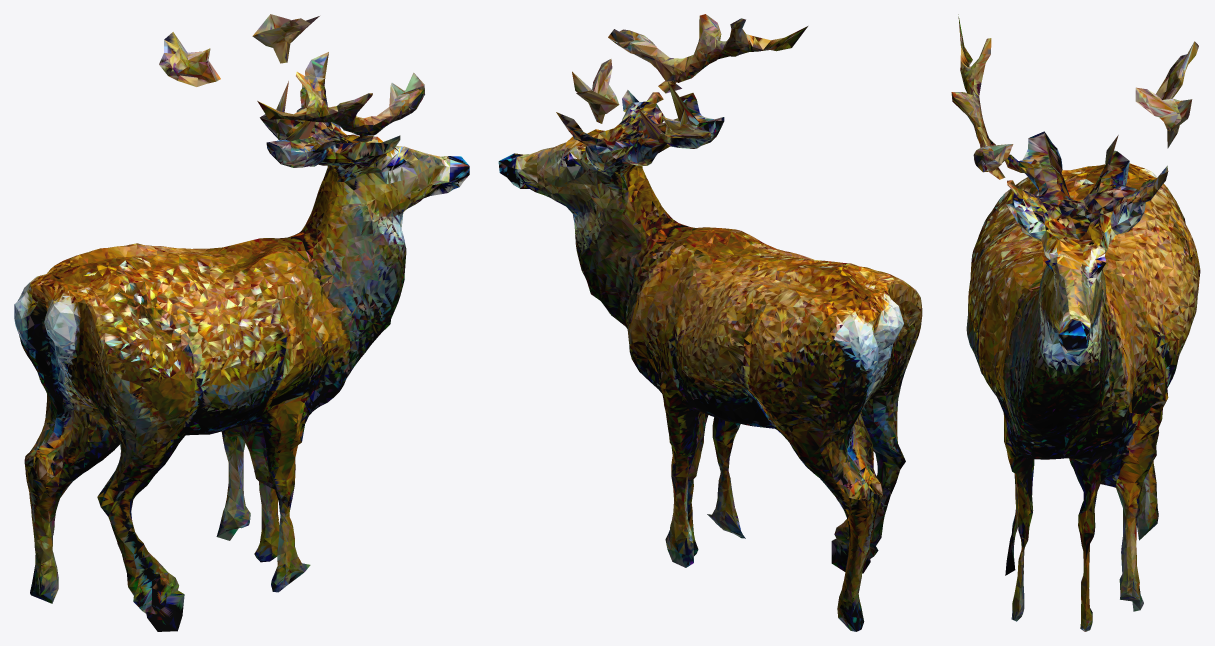
The model's file is deer-canny.glb.
The picture shows the model from 3 angles, left to right: view 1: azimuth 30°, elevation 25°; view 2: azimuth 150°, elevation 25°; view 3: azimuth 270°, elevation 25°; orthographic projection. The views are drawn at different scales.
Visible parts, largest first — view 1: extracted_mesh; view 2: extracted_mesh; view 3: extracted_mesh.
Boxes of the visible parts, x1,y1,x2,y2 form: extracted_mesh: [14, 14, 469, 631]; extracted_mesh: [498, 14, 922, 631]; extracted_mesh: [951, 14, 1200, 631].
Size of the model in its own units: 0.8888 by 1.09 by 0.4105.
1 material, 1 textured.
